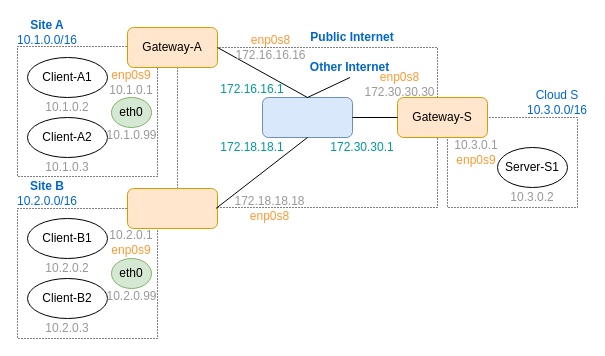
The diagram is 605 pixels wide and 356 high, and some of its shapes have lost their labels. The shapes that lost their labels are listed below. From the top down, each one's centre as x and y in pixels, then its label:
the point at 307,117: Router
the point at 172,208: Gateway-B
